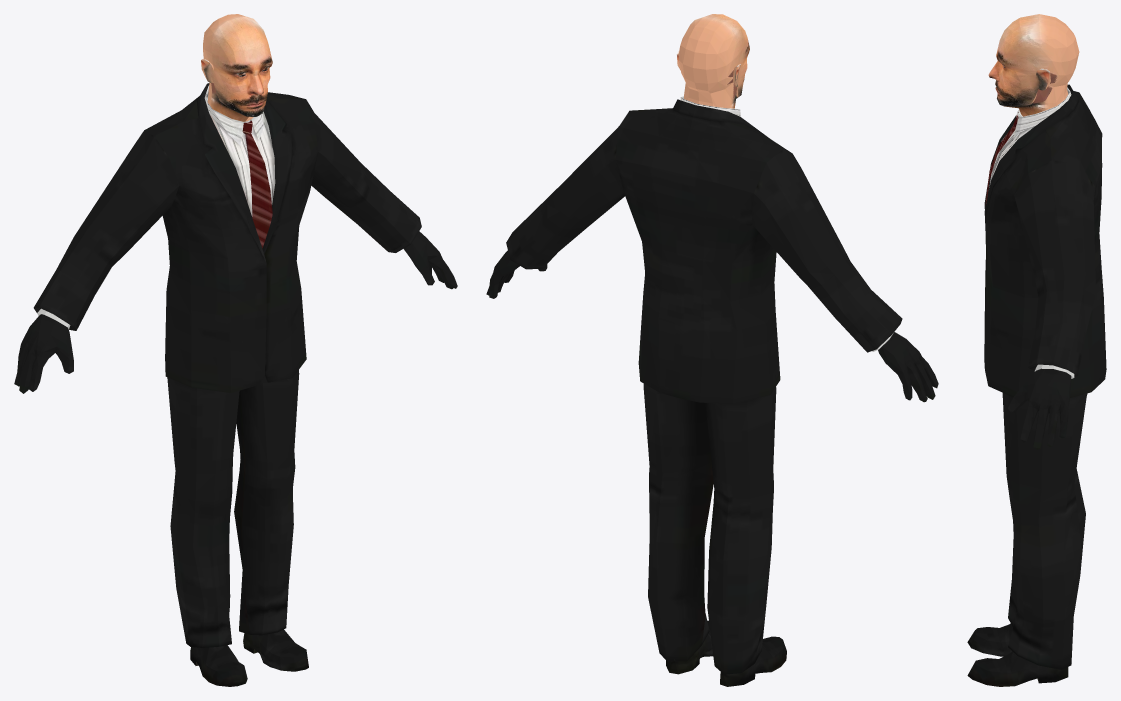
File: Felipe.glb
3 views of the same model, side by side, from view 1: azimuth 30°, elevation 25°; view 2: azimuth 150°, elevation 25°; view 3: azimuth 270°, elevation 25° (orthographic).
Visible parts, largest first — view 1: Xandao; view 2: Xandao; view 3: Xandao.
Boxes of the visible parts, left/top/right/bottom form: Xandao: left=14, top=14, right=457, bottom=686; Xandao: left=486, top=14, right=938, bottom=686; Xandao: left=967, top=14, right=1106, bottom=686.
Size of the model in its own units: 1.28 by 1.8 by 0.3512.
Materials: 1 (1 with a texture image).
